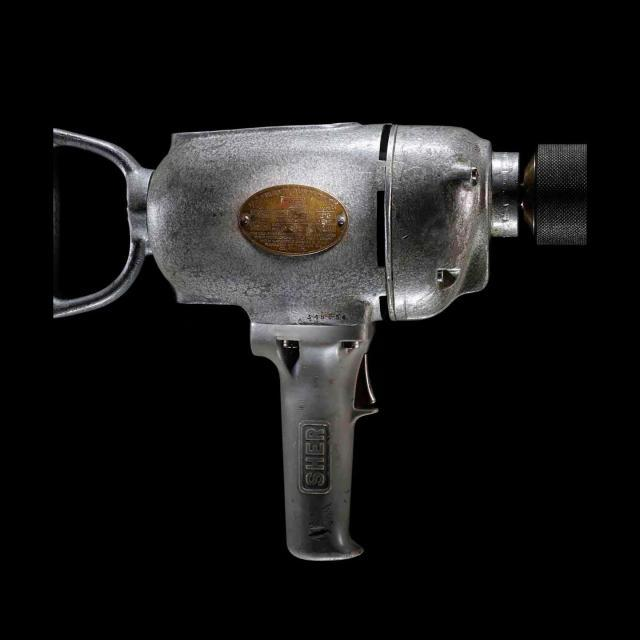drill: (53, 122, 587, 562)
